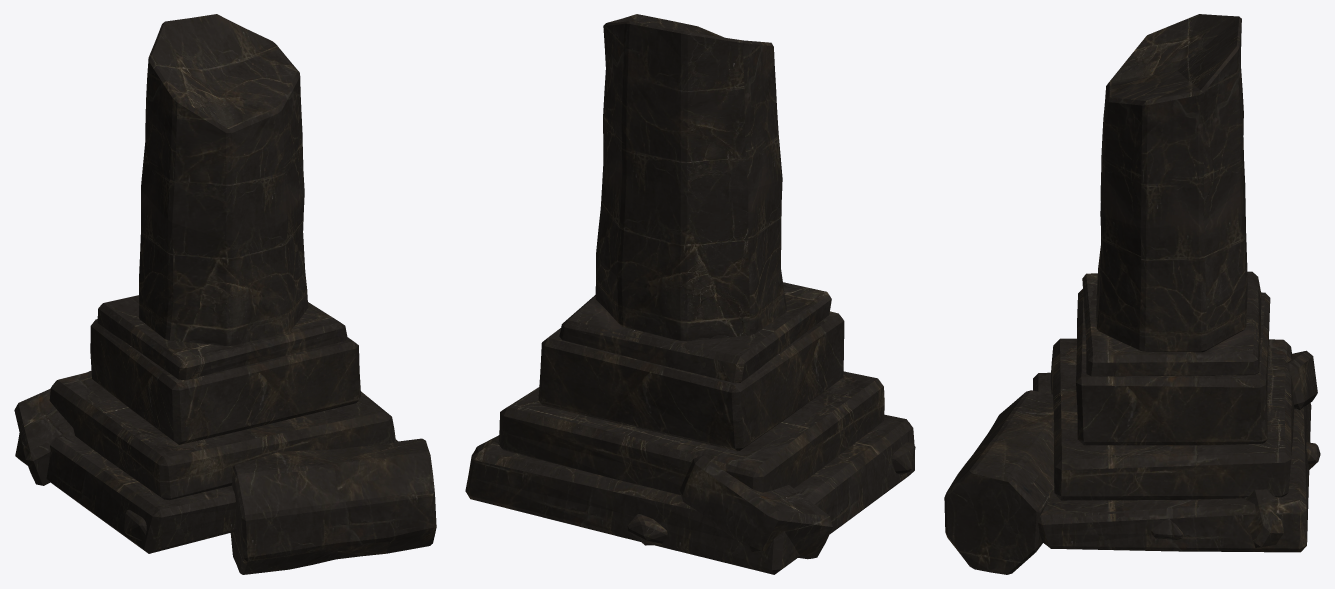
Rendered from ruin_column_broken.glb.
3 views of the same model, side by side, from view 1: azimuth 30°, elevation 25°; view 2: azimuth 150°, elevation 25°; view 3: azimuth 270°, elevation 25° (orthographic). The views are drawn at different scales.
Parts seen in each view (by area): view 1: ruin_column_broken; view 2: ruin_column_broken; view 3: ruin_column_broken.
Part boxes in pixels (x1,y1,x2,y2): ruin_column_broken: [14, 14, 436, 574]; ruin_column_broken: [465, 14, 915, 574]; ruin_column_broken: [944, 14, 1320, 574].
Bounding box in the file's own units: 2 × 2.9 × 2.
1 material, 1 textured.
